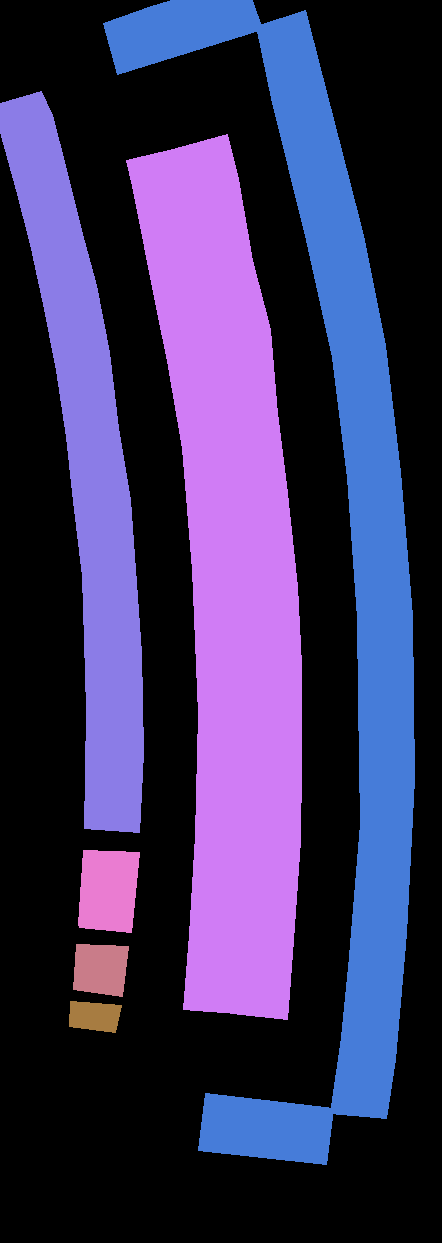parkingspot: (256, 10, 414, 1118), (176, 134, 301, 1019), (126, 148, 252, 1013), (0, 91, 143, 832), (103, 0, 262, 74), (198, 1093, 333, 1164), (78, 850, 139, 932), (73, 944, 128, 996), (69, 1001, 121, 1032)
